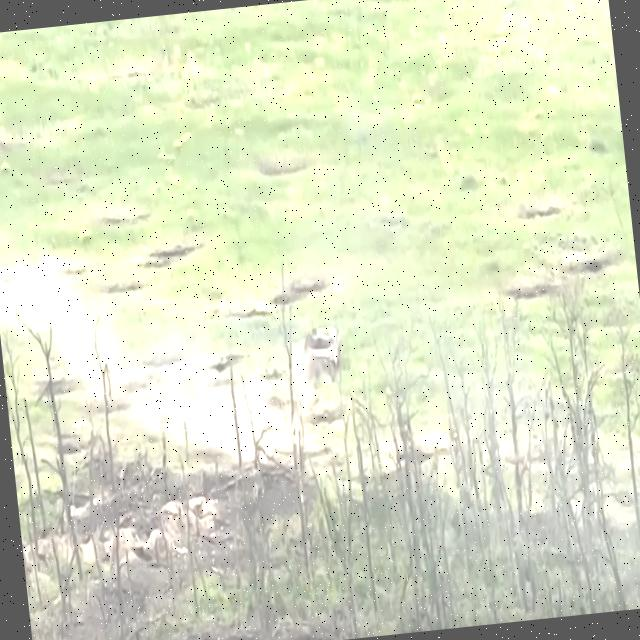AIFV: (297, 320, 347, 383)
